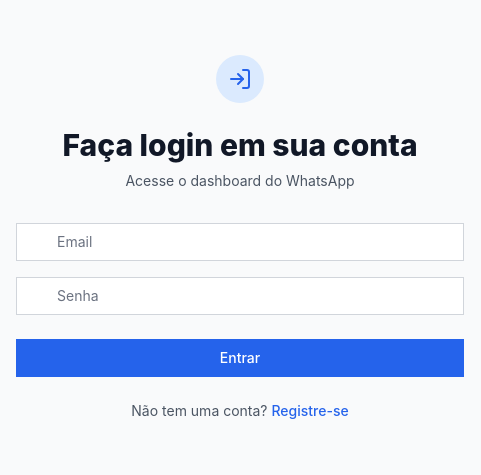
Login Component › should show error message on login failure
Type "test@example.com" into the field with placeholder "Email".
click(240, 242); type("test@example.com")  # box [16,223,464,261]
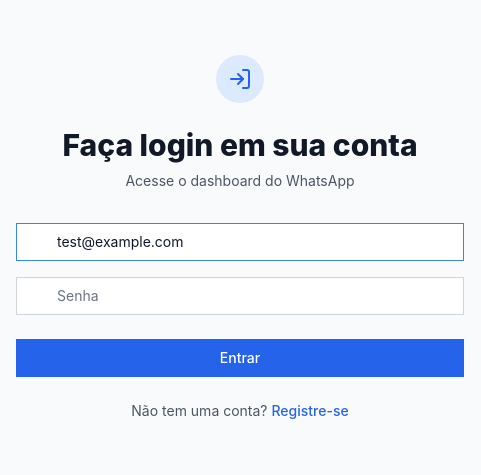
Type "wrongpassword" into the password field with placeholder "Senha".
click(240, 296); type("wrongpassword")  # box [16,277,464,315]
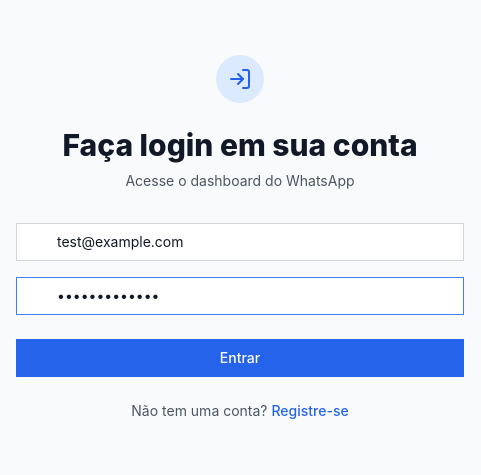
Click the button "Entrar".
click(240, 358)  # box [16,339,464,377]
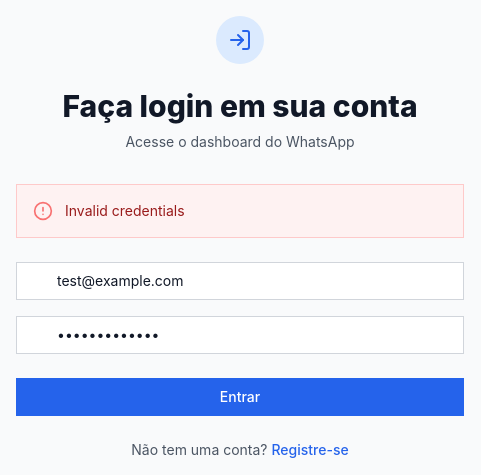
Now the text "Invalid credentials" is shown, box [65,201,185,221]
